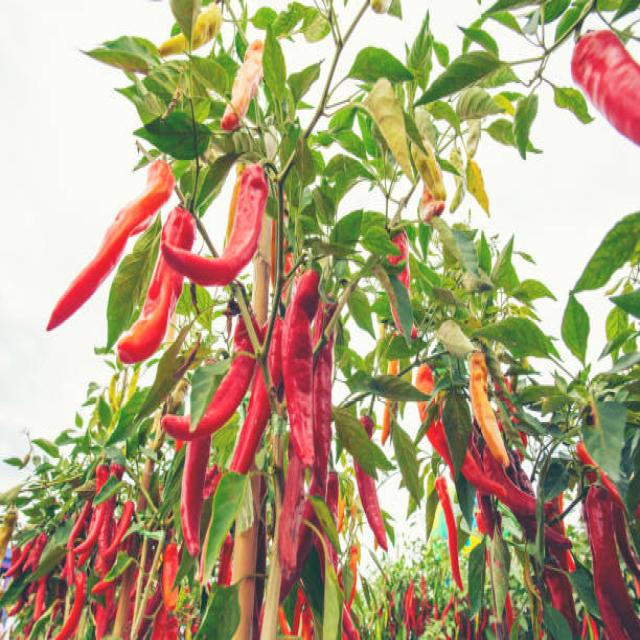Ripe: (47, 160, 175, 329), (162, 307, 254, 445), (162, 163, 268, 282), (118, 207, 193, 359), (281, 257, 327, 471), (569, 19, 640, 151), (584, 488, 639, 638), (412, 358, 457, 485), (176, 439, 213, 562), (274, 455, 306, 574), (356, 461, 392, 549), (435, 478, 462, 590), (159, 538, 181, 611)
